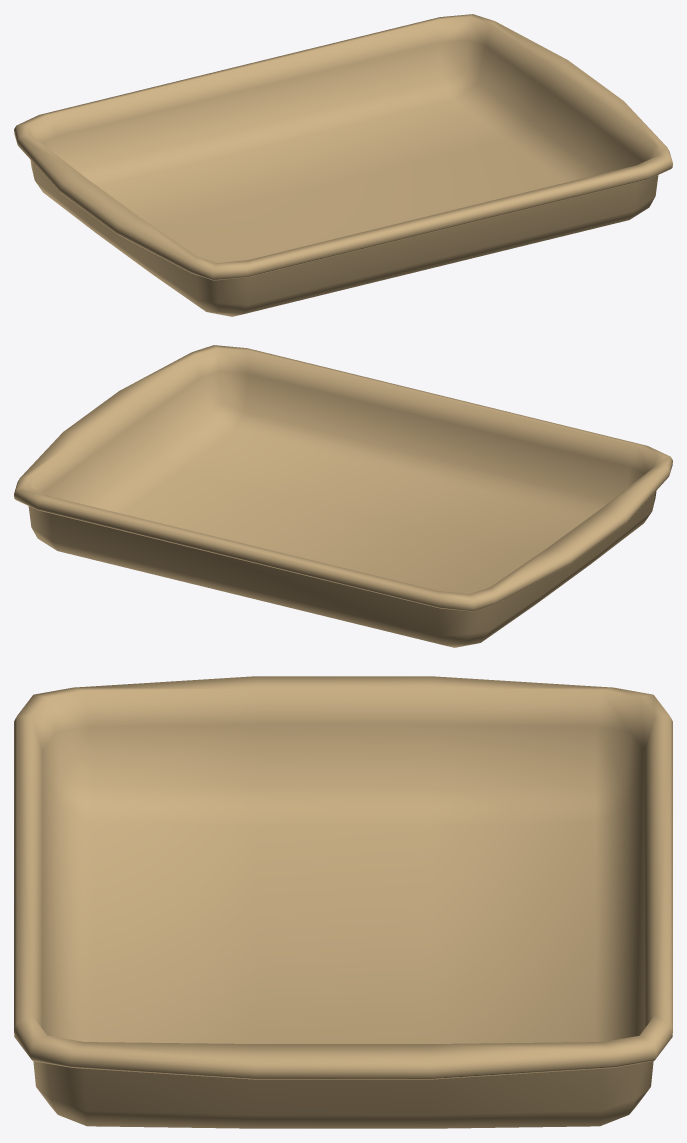
The model's file is tray.fbx.
3 renders of one model, top to bottom at view 1: azimuth 30°, elevation 25°; view 2: azimuth 150°, elevation 25°; view 3: azimuth 270°, elevation 25°, orthographic. The views are drawn at different scales.
Visible parts, largest first — view 1: Cube; view 2: Cube; view 3: Cube.
Boxes of the visible parts, x1,y1,x2,y2 form: Cube: [14, 14, 672, 316]; Cube: [14, 345, 672, 647]; Cube: [14, 676, 672, 1128].
Size of the model in its own units: 892 by 119 by 634.
